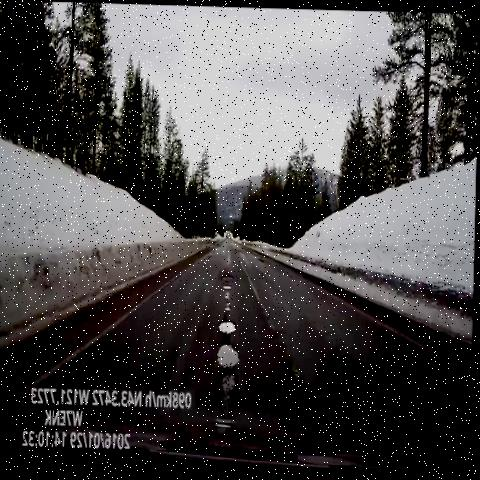pothole: (211, 332, 242, 384), (221, 282, 238, 312), (218, 314, 240, 336), (222, 268, 240, 286)
